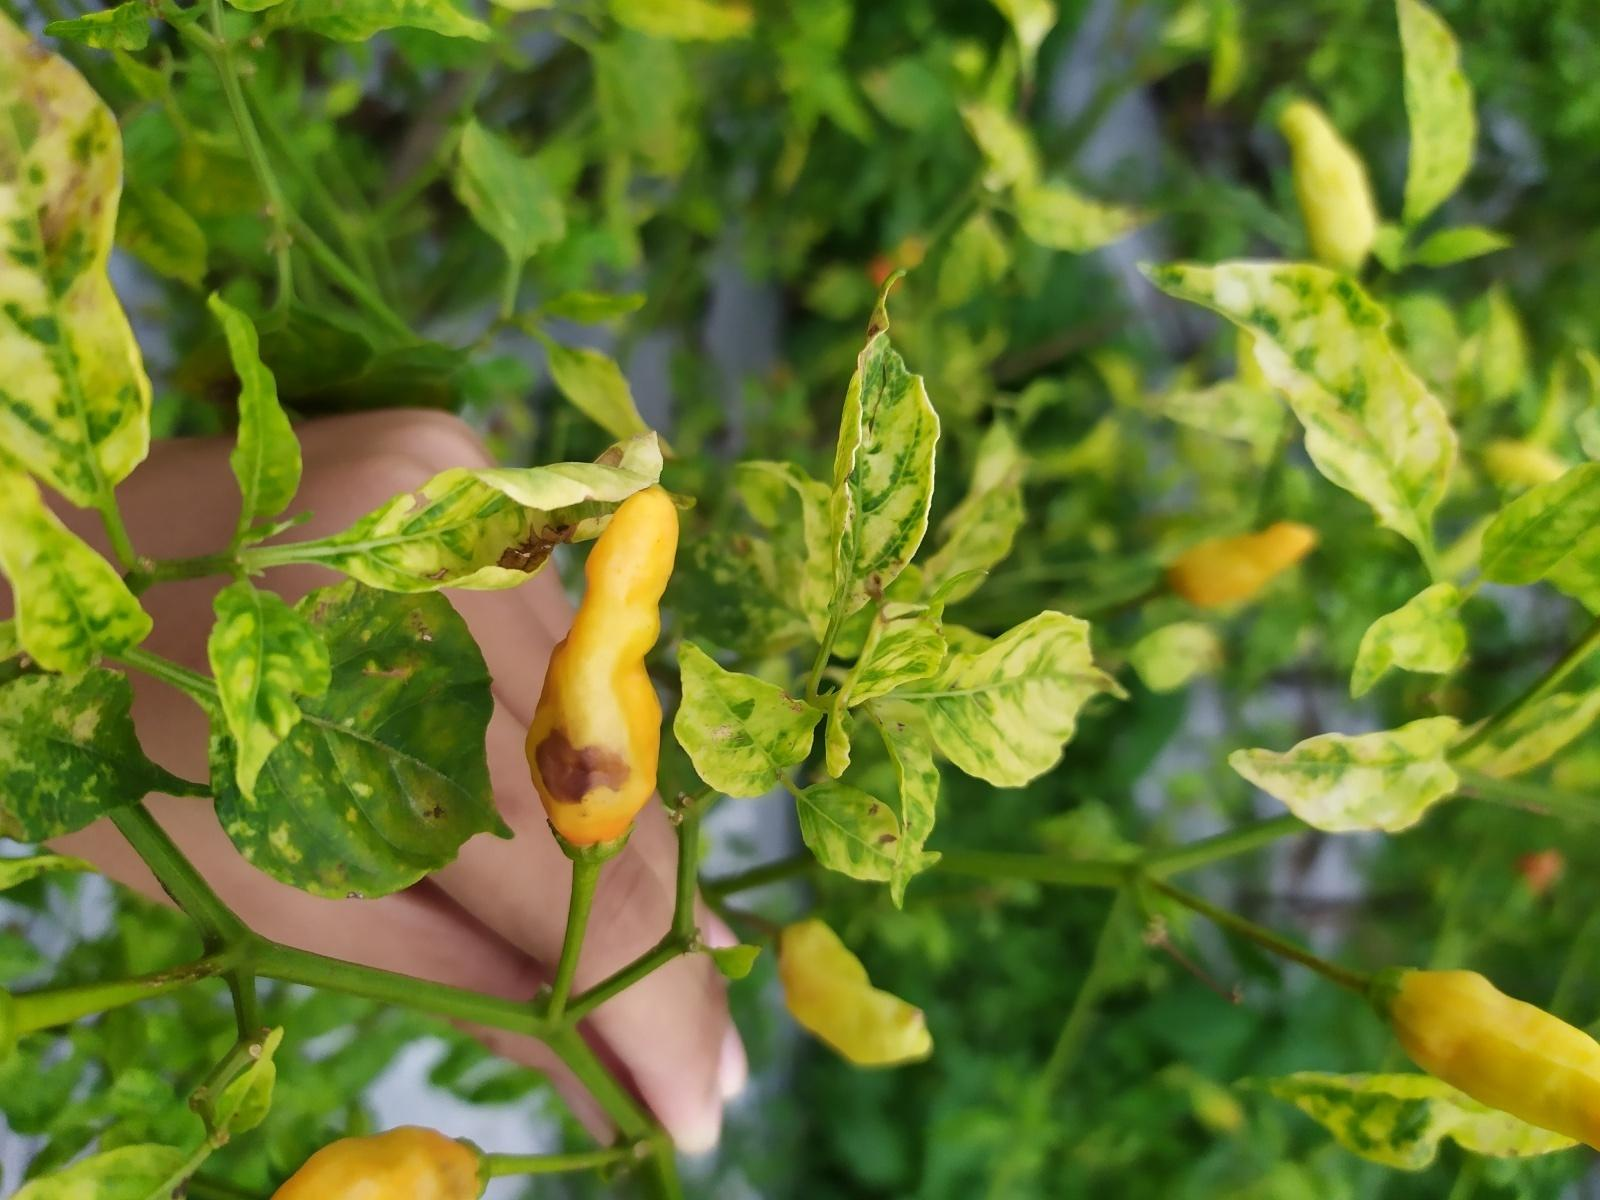antraknosa: (525, 481, 682, 864)
cabai_normal: (1388, 965, 1600, 1145), (774, 918, 933, 1068), (1277, 102, 1380, 271), (265, 1125, 494, 1200), (1172, 517, 1319, 607)
